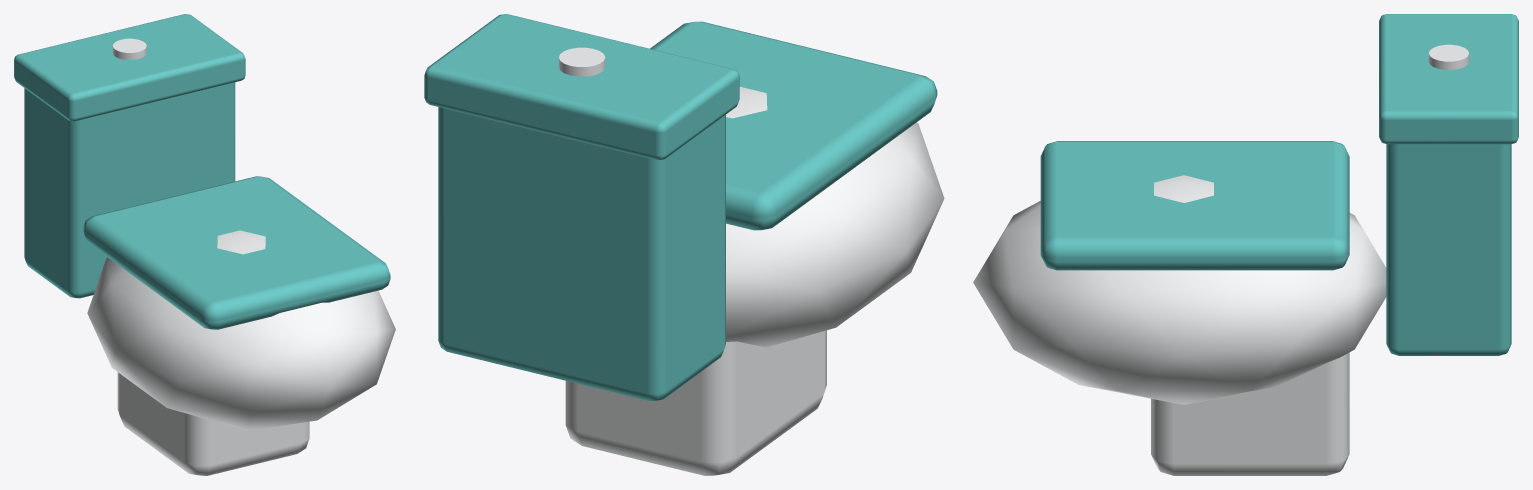
Rendered from living-toilet.glb.
3 renders of one model, left to right at view 1: azimuth 30°, elevation 25°; view 2: azimuth 150°, elevation 25°; view 3: azimuth 270°, elevation 25°, orthographic. The views are drawn at different scales.
Parts seen in each view (by area): view 1: bowl, seat, tank, tank-lid, pedestal, flush; view 2: tank, bowl, seat, tank-lid, pedestal, flush; view 3: bowl, seat, tank, pedestal, tank-lid, flush.
Part boxes in pixels (x1,y1,x2,y2): bowl: (87, 230, 395, 430); seat: (83, 176, 390, 329); tank: (24, 82, 235, 298); tank-lid: (14, 14, 245, 121); pedestal: (117, 372, 309, 475); flush: (112, 38, 146, 59); tank: (438, 107, 725, 401); bowl: (726, 86, 944, 347); seat: (650, 21, 937, 230); tank-lid: (424, 14, 739, 160); pedestal: (565, 330, 826, 475); flush: (558, 47, 605, 76); bowl: (973, 175, 1386, 404); seat: (1040, 141, 1349, 270); tank: (1386, 144, 1511, 355); pedestal: (1151, 352, 1349, 475); tank-lid: (1379, 14, 1518, 144); flush: (1428, 44, 1469, 69).
Size of the model in its own units: 0.94 by 1.19 by 1.48.
